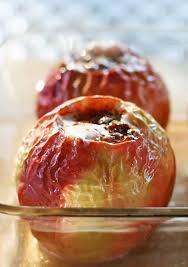damaged_apple: (10, 99, 180, 214), (32, 42, 170, 135)
